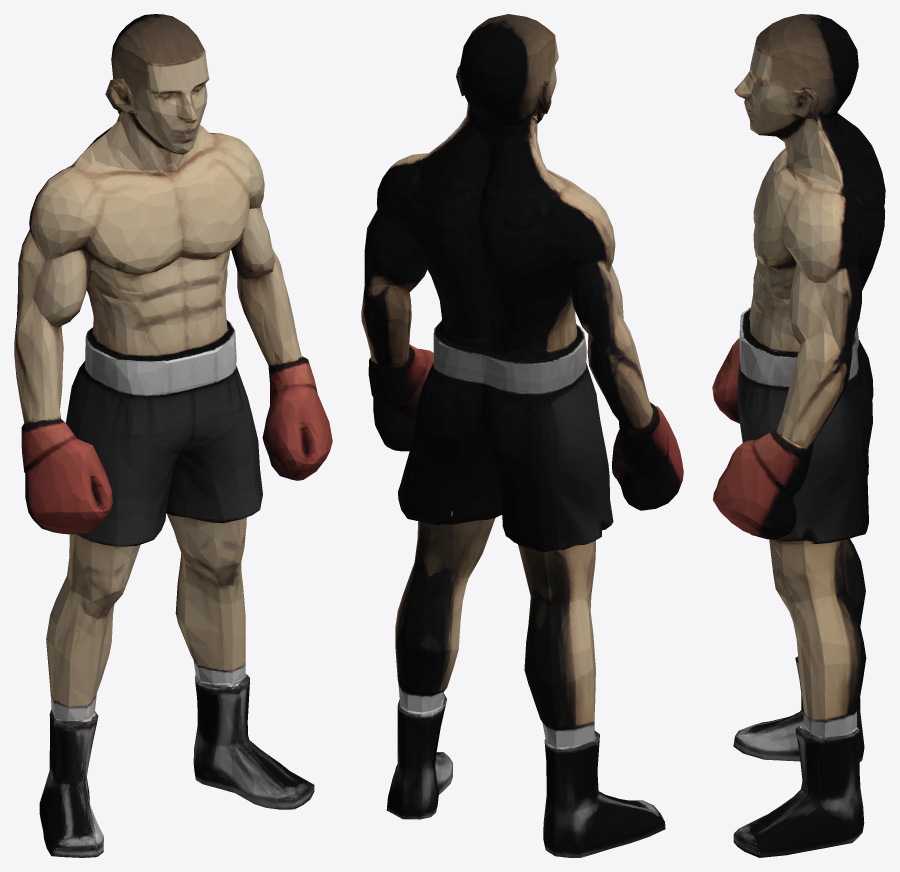
Rendered from boxer_base_m_src.glb.
3 renders of one model, left to right at view 1: azimuth 30°, elevation 25°; view 2: azimuth 150°, elevation 25°; view 3: azimuth 270°, elevation 25°, orthographic. The views are drawn at different scales.
Visible parts, largest first — view 1: world; view 2: world; view 3: world.
Part boxes in pixels (x1=…): world: x1=14, y1=14, x2=332, y2=857; world: x1=361, y1=14, x2=683, y2=857; world: x1=712, y1=14, x2=885, y2=857.
Size of the model in its own units: 0.2766 by 0.6963 by 0.1404.
1 material, 1 textured.
